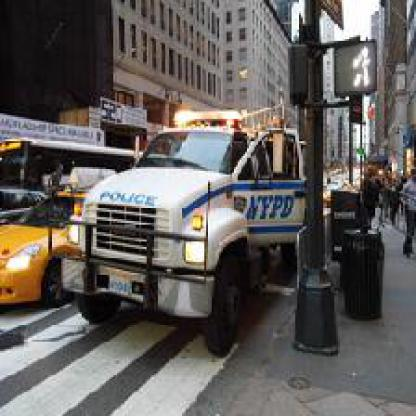emergency: (65, 100, 308, 360)
not_emergency: (2, 176, 104, 325)
